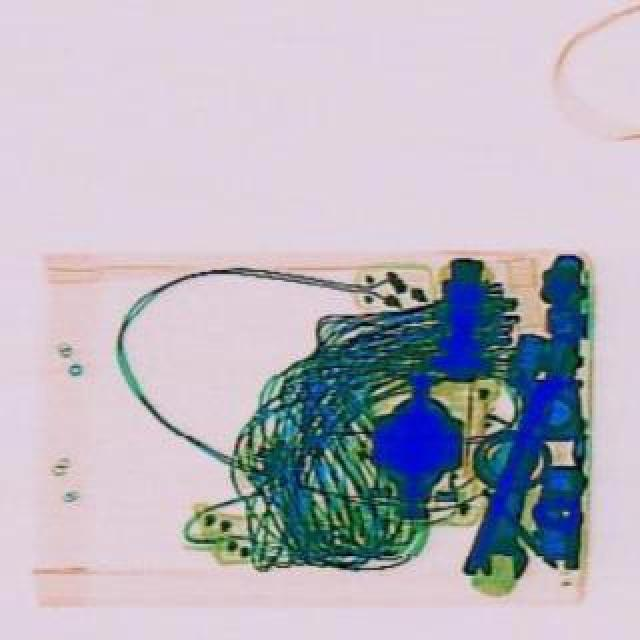scissors: (470, 364, 568, 584)
